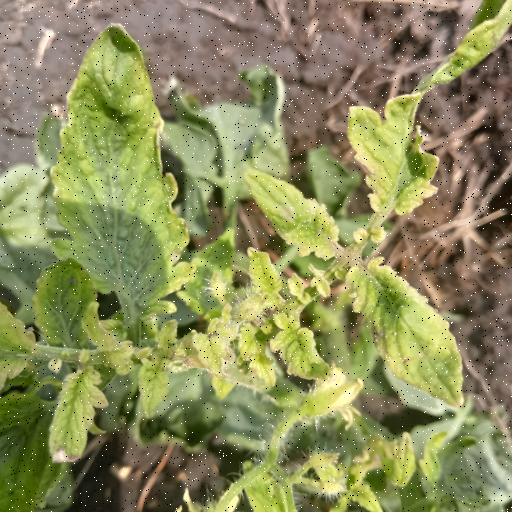Tomato_Mosaic: (40, 20, 201, 332)
